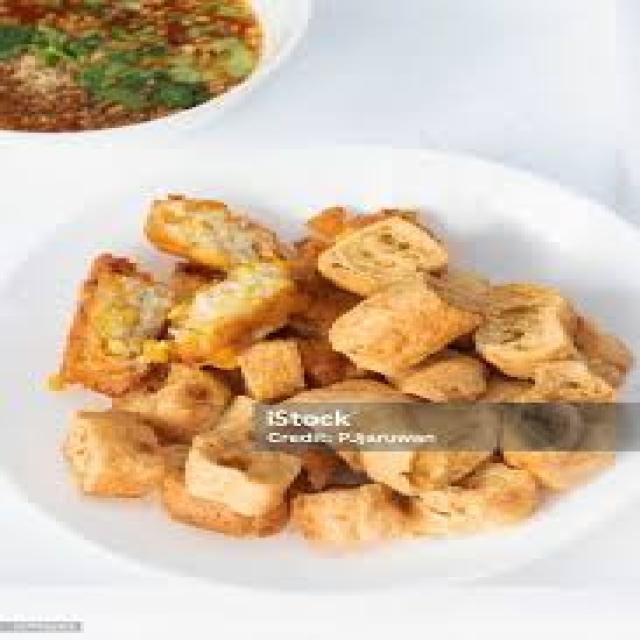tahu: (71, 188, 606, 542)
